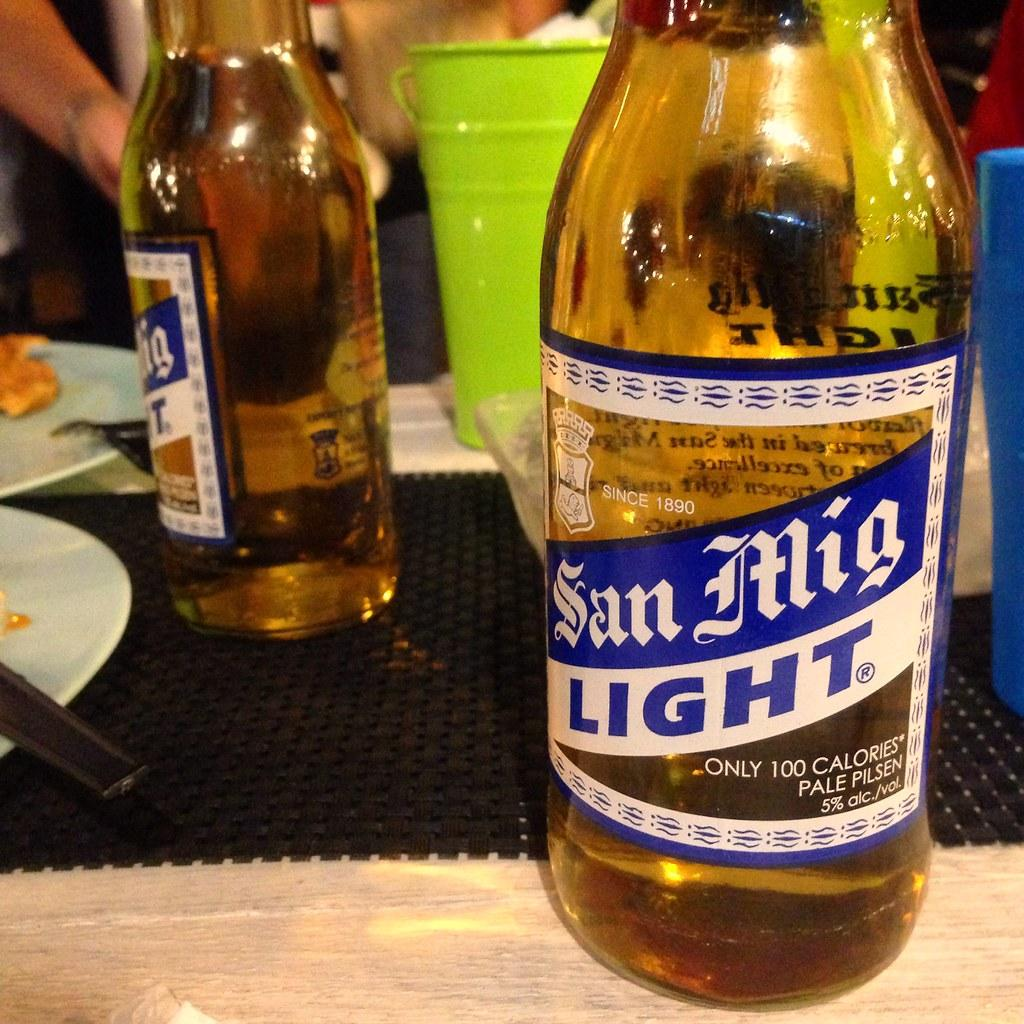bottle: (539, 1, 977, 1012), (118, 1, 402, 641)
